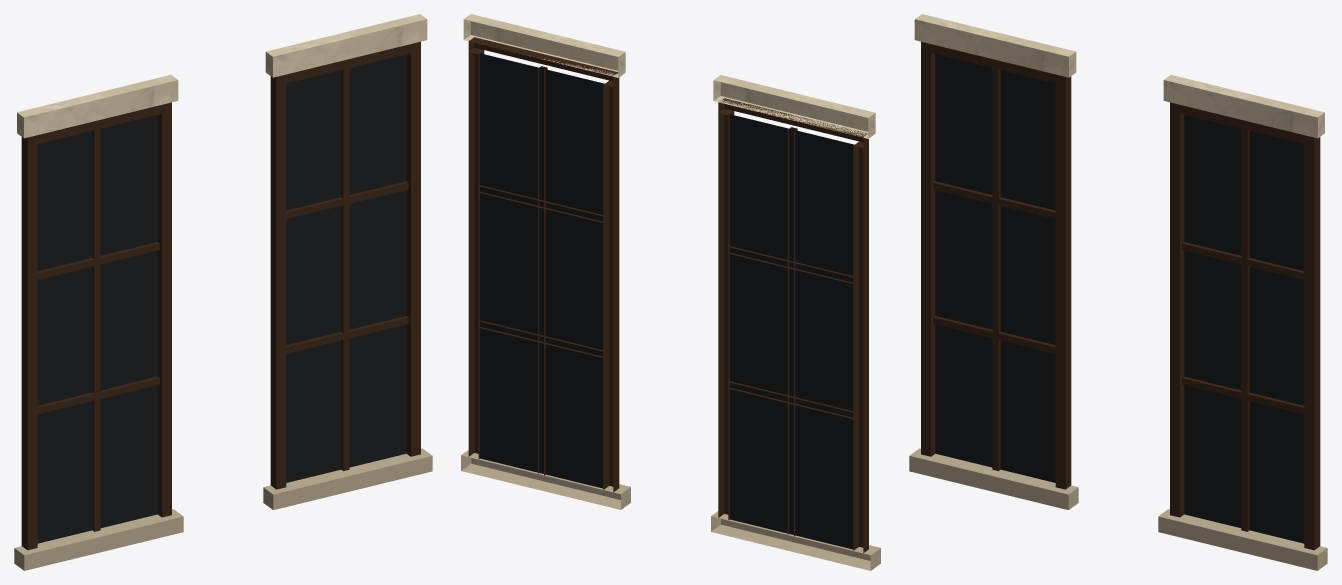
File: paired_window.glb
3 views of the same model, side by side, from view 1: azimuth 30°, elevation 25°; view 2: azimuth 150°, elevation 25°; view 3: azimuth 330°, elevation 25° (orthographic).
Visible parts, largest first — view 1: paired_window; view 2: paired_window; view 3: paired_window.
Part boxes in pixels (x1,y1,x2,y2): paired_window: (14,14,432,570); paired_window: (461,14,880,570); paired_window: (909,14,1327,570).
Bounding box in the file's own units: 3.28 × 3.46 × 0.14.
Materials: 4 (1 with a texture image).
